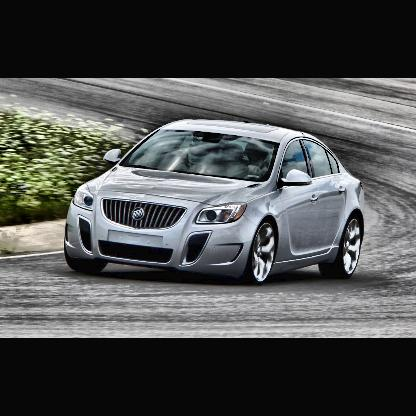Buick Regal GS 2012: (64, 118, 367, 286)
